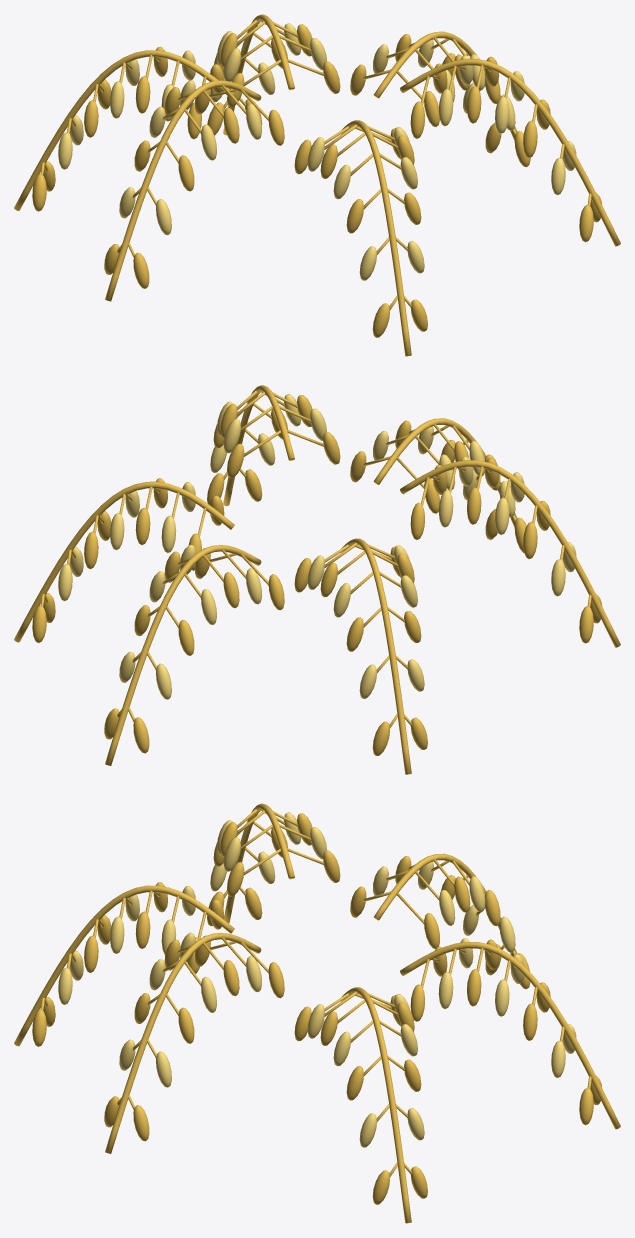
Rendered from SM_BFF_RicePanicle.fbx.
3 renders of one model, top to bottom at view 1: azimuth 30°, elevation 25°; view 2: azimuth 150°, elevation 25°; view 3: azimuth 270°, elevation 25°, orthographic.
Visible parts, largest first — view 1: SM_BFF_RicePanicle; view 2: SM_BFF_RicePanicle; view 3: SM_BFF_RicePanicle.
Part boxes in pixels (box(x1,y1,x2,y2)): SM_BFF_RicePanicle: box(14, 14, 620, 356); SM_BFF_RicePanicle: box(14, 385, 620, 774); SM_BFF_RicePanicle: box(14, 803, 620, 1223).
Bounding box in the file's own units: 32.24 × 32.9 × 13.49.
